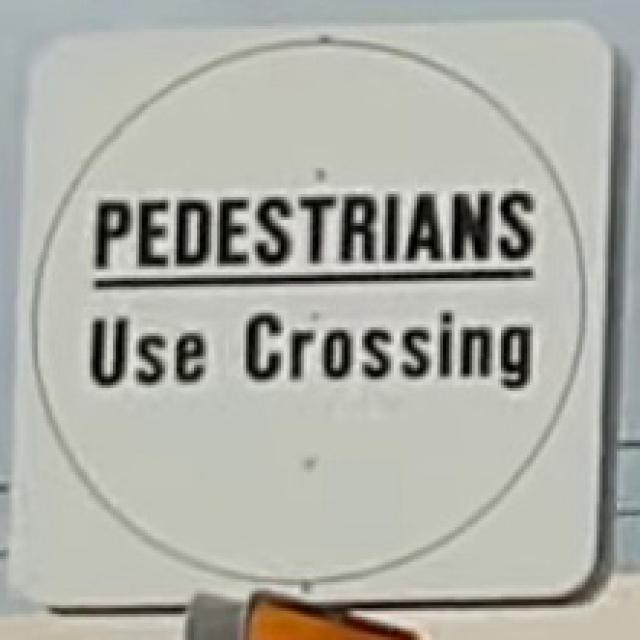pedestriancrossing_sign: (6, 14, 617, 614)
